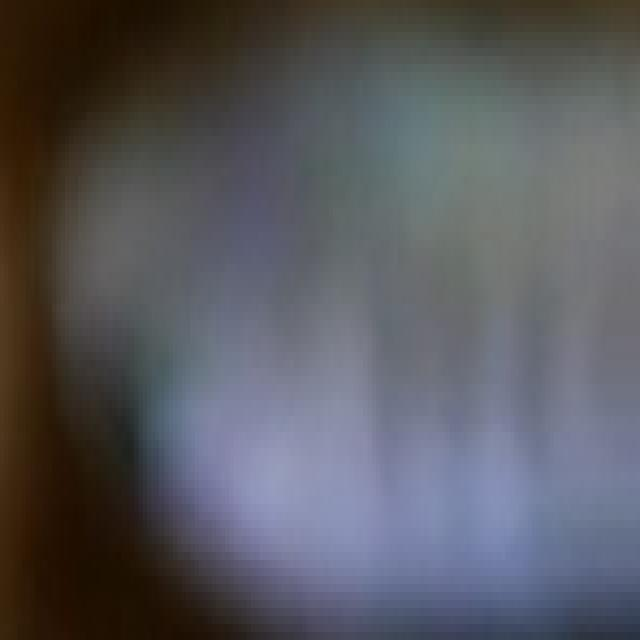fish: (0, 0, 636, 632)
